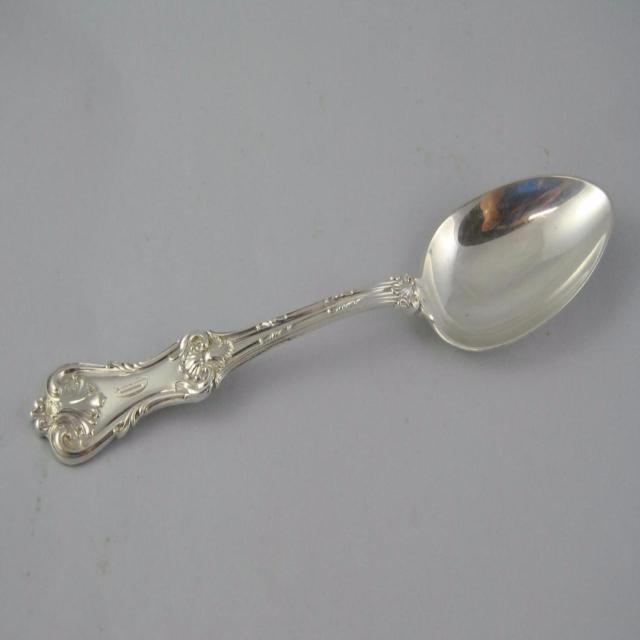spoon: (15, 164, 624, 486)
